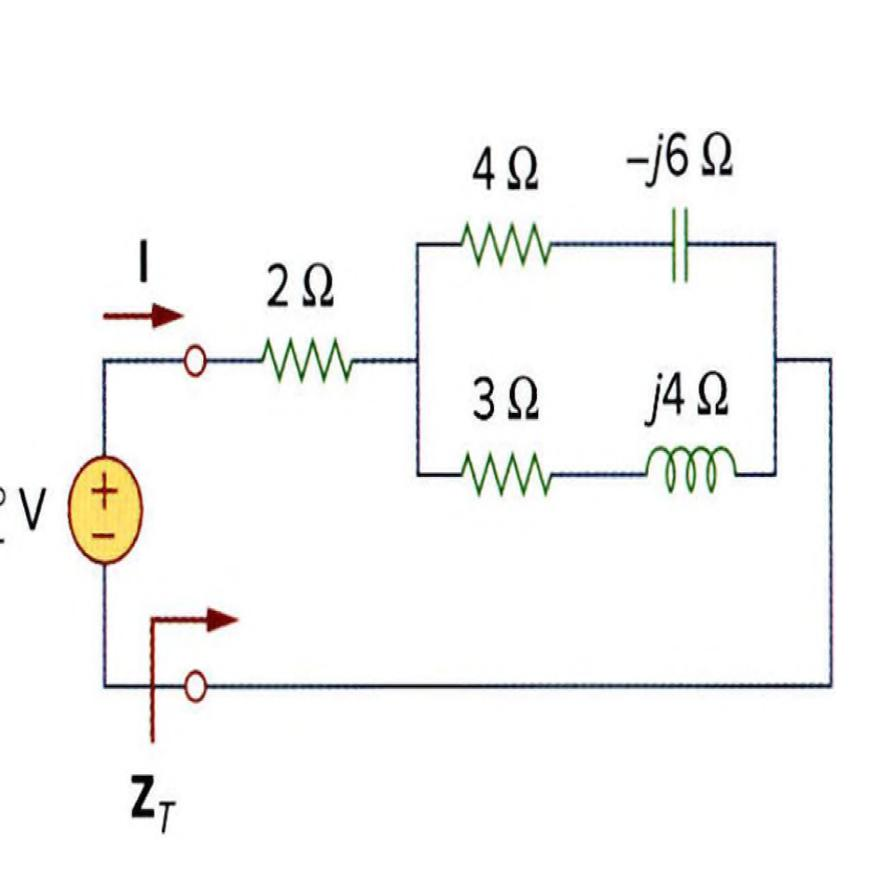C1: (654, 192, 702, 296)
L1: (636, 435, 748, 500)
